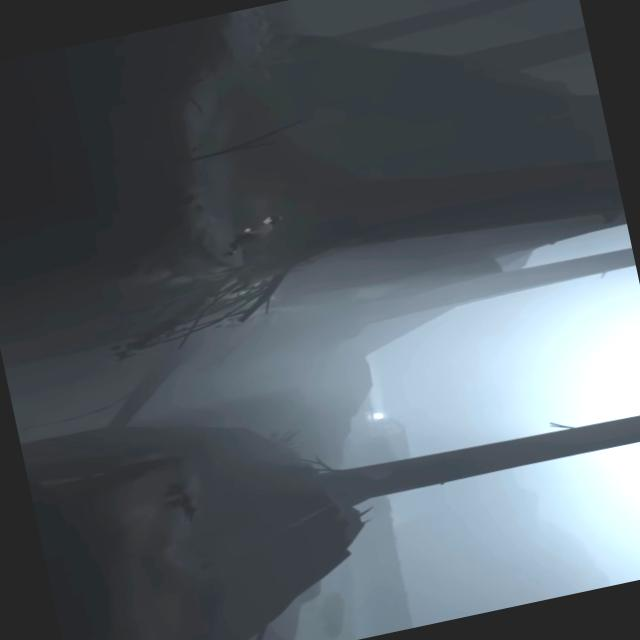boy: (220, 214, 288, 256)
